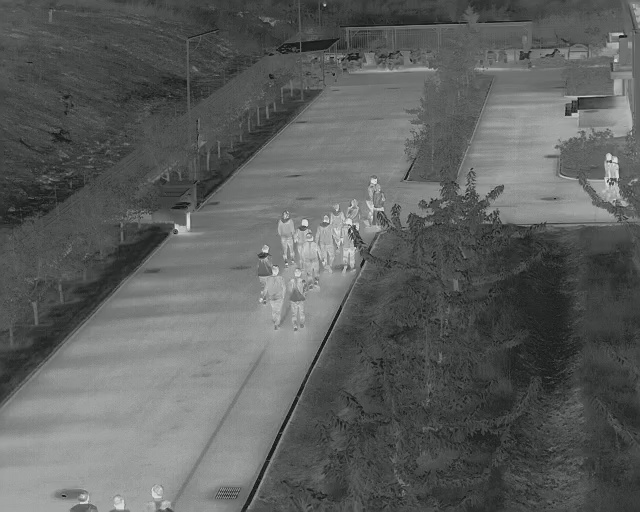person: (258, 264, 285, 331), (287, 268, 309, 332), (316, 215, 337, 273), (277, 209, 296, 265), (301, 233, 324, 273), (602, 152, 619, 193), (341, 218, 353, 275), (365, 174, 378, 222), (255, 243, 272, 276), (348, 197, 361, 227), (373, 185, 386, 213)
